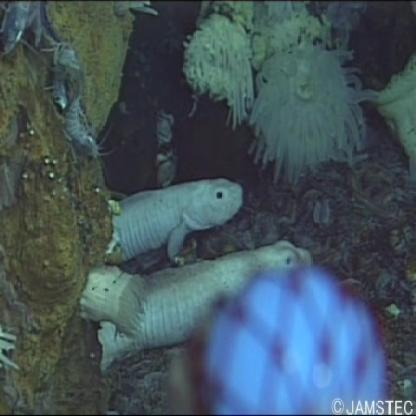Bio: (79, 175, 318, 372), (245, 34, 398, 187), (1, 1, 113, 169)
